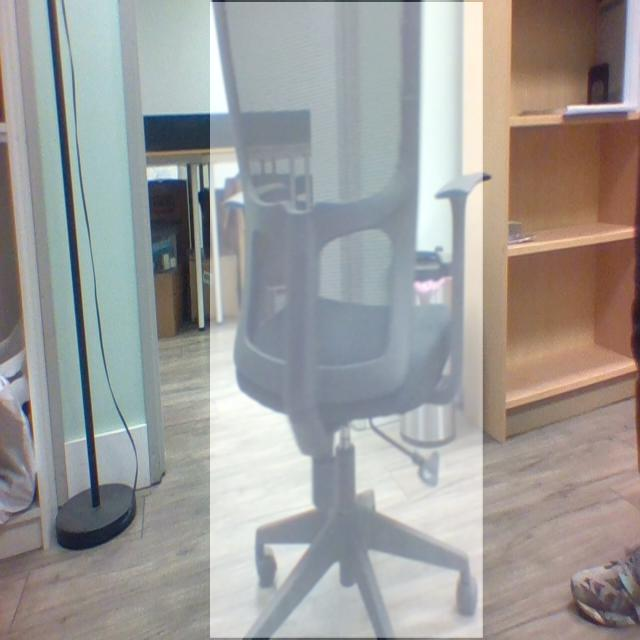black-chair: (210, 2, 484, 639)
